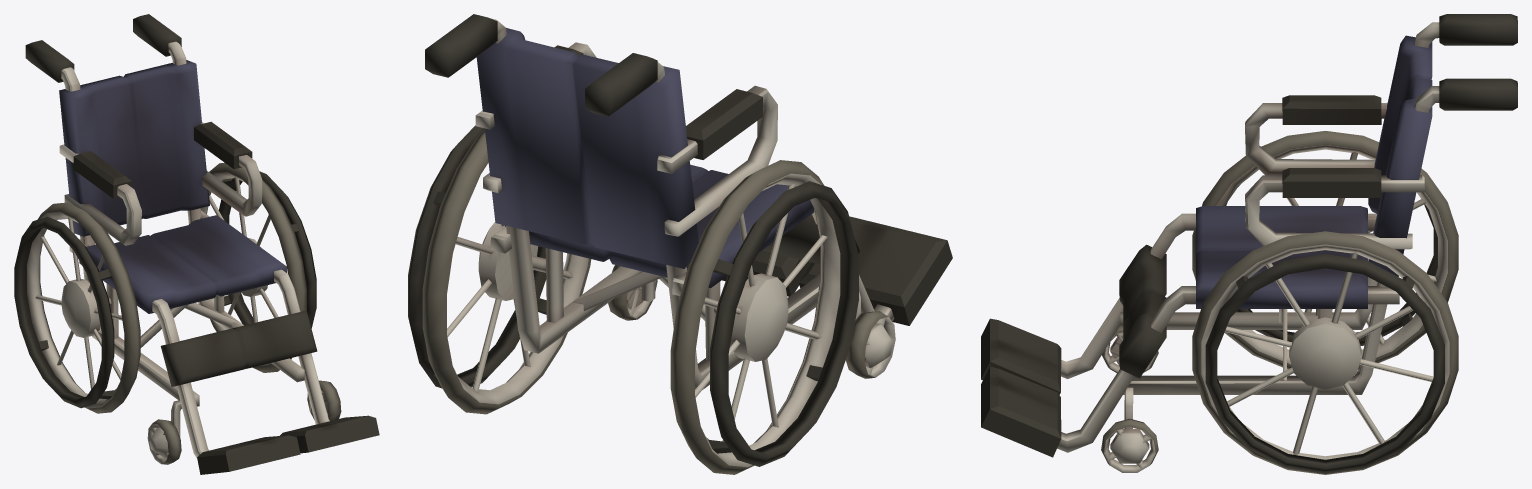
Rendered from CH_wheelchair01.FBX.
3 views of the same model, side by side, from view 1: azimuth 30°, elevation 25°; view 2: azimuth 150°, elevation 25°; view 3: azimuth 270°, elevation 25° (orthographic). The views are drawn at different scales.
Visible parts, largest first — view 1: wheelchair, wheelchair_tire_RR, wheelchair_tire_RL, wheelchair_tire_FR, wheelchair_tire_FL; view 2: wheelchair, wheelchair_tire_RR, wheelchair_tire_RL, wheelchair_tire_FR, wheelchair_tire_FL; view 3: wheelchair, wheelchair_tire_RL, wheelchair_tire_RR, wheelchair_tire_FL, wheelchair_tire_FR.
Part boxes in pixels (box(x1,y1,x2,y2)): wheelchair: box(25, 14, 379, 474); wheelchair_tire_RR: box(14, 202, 140, 413); wheelchair_tire_RL: box(200, 162, 316, 372); wheelchair_tire_FR: box(147, 419, 181, 464); wheelchair_tire_FL: box(307, 380, 341, 420); wheelchair: box(425, 14, 952, 389); wheelchair_tire_RR: box(670, 160, 858, 474); wheelchair_tire_RL: box(408, 125, 591, 414); wheelchair_tire_FR: box(846, 311, 895, 378); wheelchair_tire_FL: box(608, 265, 657, 320); wheelchair: box(981, 14, 1517, 457); wheelchair_tire_RL: box(1192, 231, 1458, 474); wheelchair_tire_RR: box(1192, 131, 1458, 370); wheelchair_tire_FL: box(1101, 418, 1158, 472); wheelchair_tire_FR: box(1102, 326, 1158, 372).
Bounding box in the file's own units: 59.48 × 80.14 × 104.
Materials: 3 (3 with a texture image).
